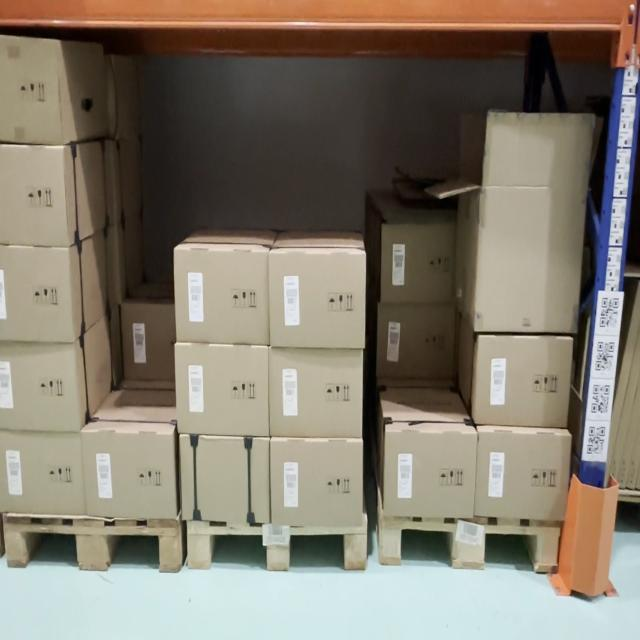box: (475, 190, 587, 334), (475, 336, 572, 428), (474, 432, 571, 520), (271, 252, 363, 344), (176, 251, 268, 342), (270, 348, 361, 434), (177, 347, 268, 433), (86, 434, 175, 518), (272, 442, 362, 524), (0, 342, 80, 432), (0, 430, 86, 513), (0, 36, 65, 145), (387, 432, 472, 514), (183, 439, 269, 520), (0, 246, 74, 340), (0, 144, 67, 247), (382, 221, 456, 303), (376, 303, 454, 377), (122, 304, 175, 380)
